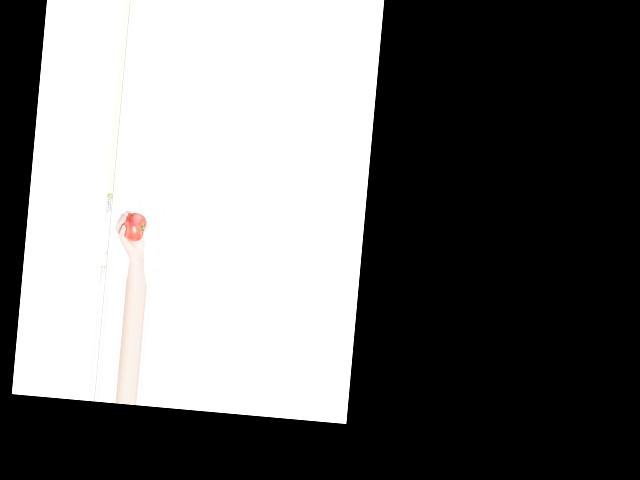tomato: (121, 212, 147, 243)
